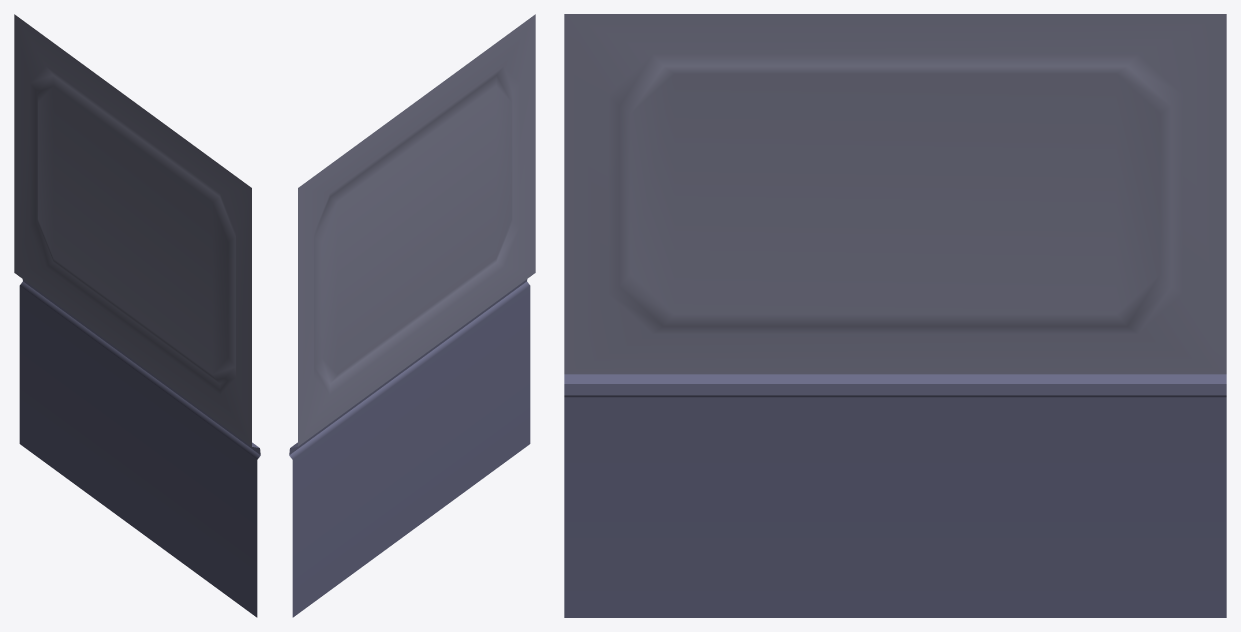
The model's file is SM_WallDefault.fbx.
3 renders of one model, left to right at view 1: azimuth 30°, elevation 25°; view 2: azimuth 150°, elevation 25°; view 3: azimuth 270°, elevation 25°, orthographic. The views are drawn at different scales.
Parts seen in each view (by area): view 1: SM_WallDefault; view 2: SM_WallDefault; view 3: SM_WallDefault.
Part boxes in pixels (left/top/right/bottom): SM_WallDefault: left=14, top=14, right=260, bottom=617; SM_WallDefault: left=289, top=14, right=535, bottom=617; SM_WallDefault: left=564, top=14, right=1226, bottom=617.
Bounding box in the file's own units: 6.38 × 300 × 300.
